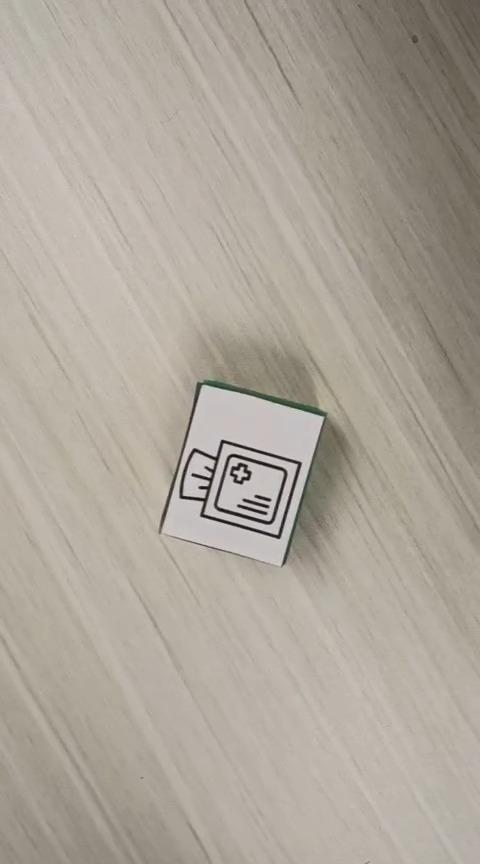Gauze: (157, 377, 328, 567)
